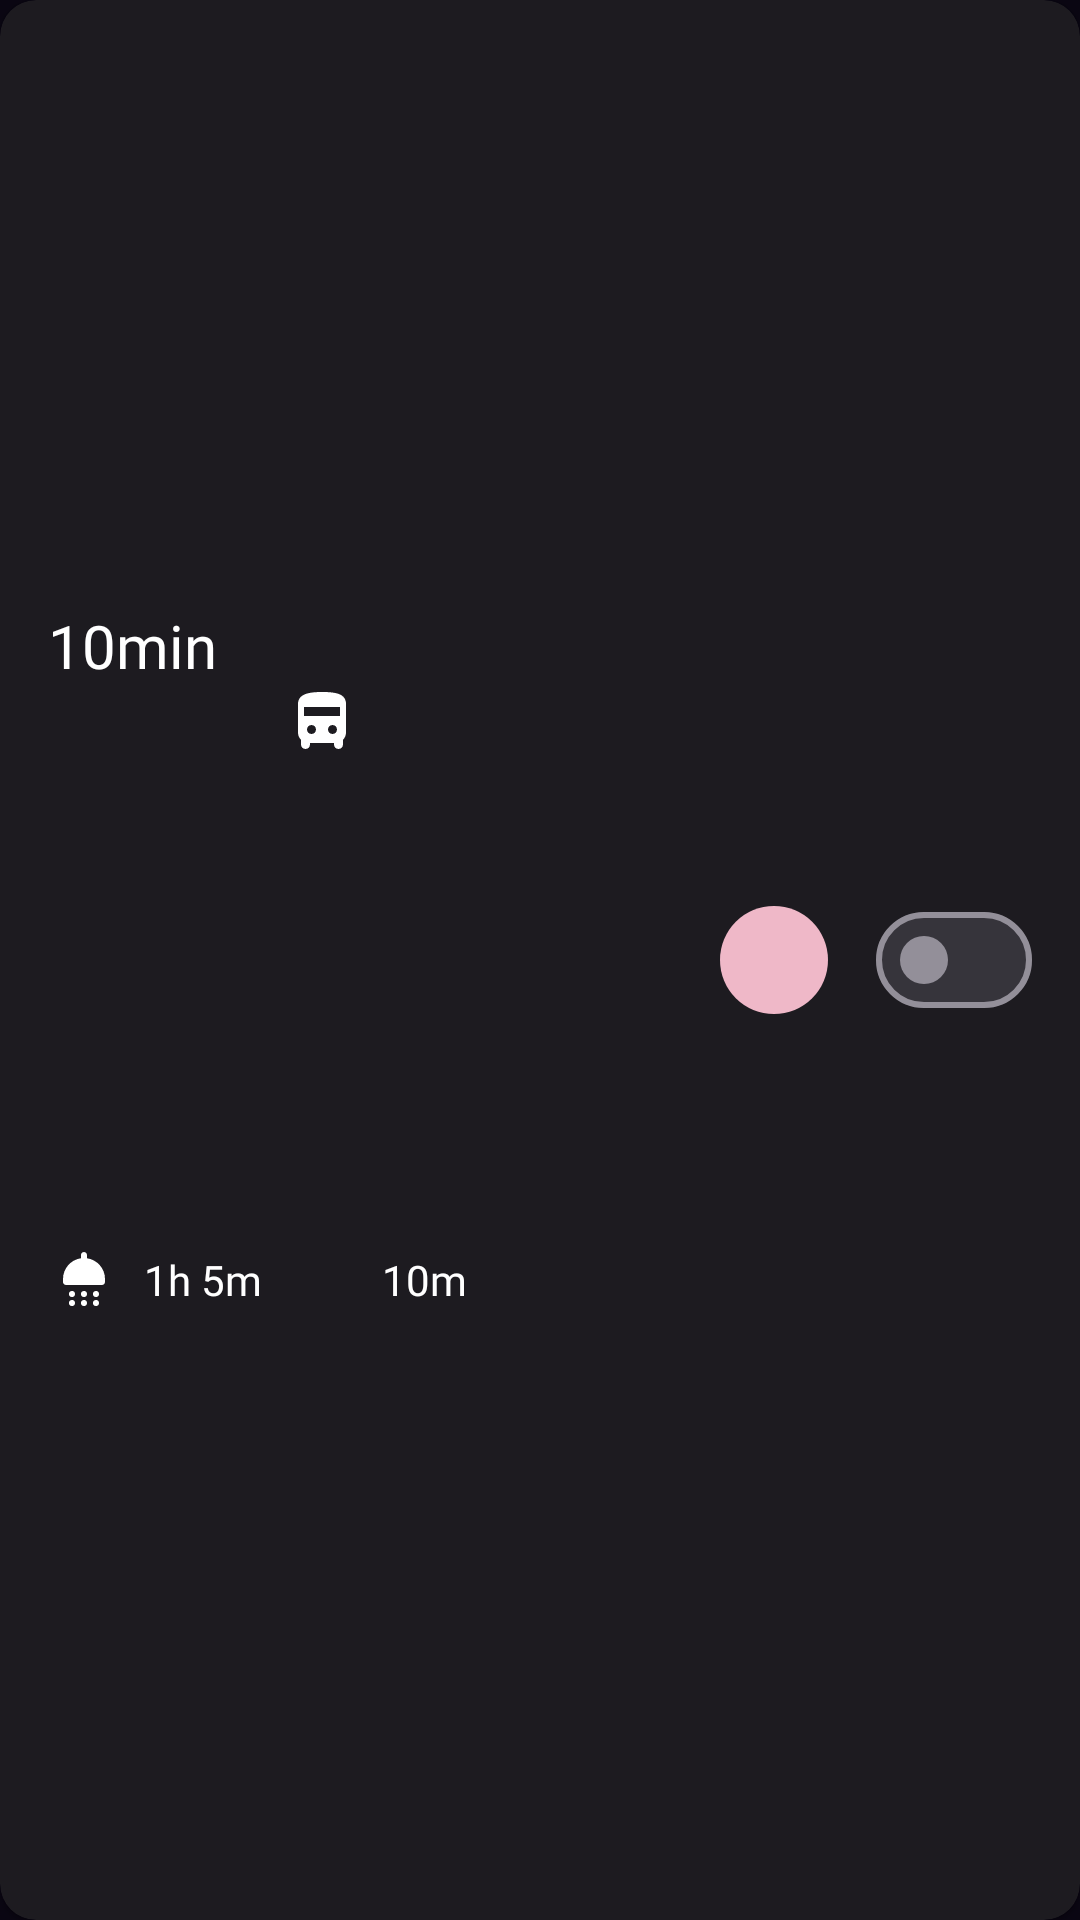

Named icons in this screenshot (1080px x 1920px) and their centers, [x,y]:
bus: [322,720]
shower: [84,1279]
